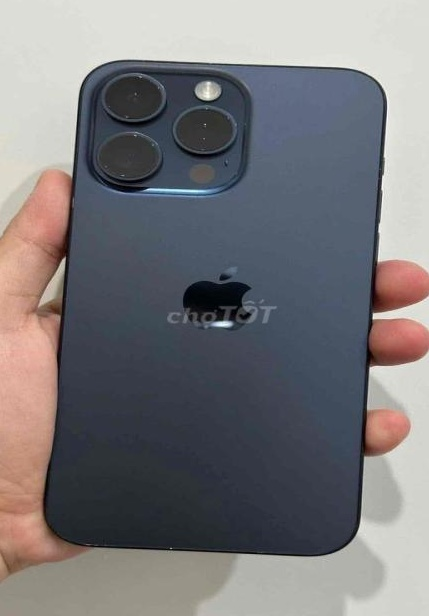scratch: (69, 65, 244, 192), (76, 535, 131, 553)
